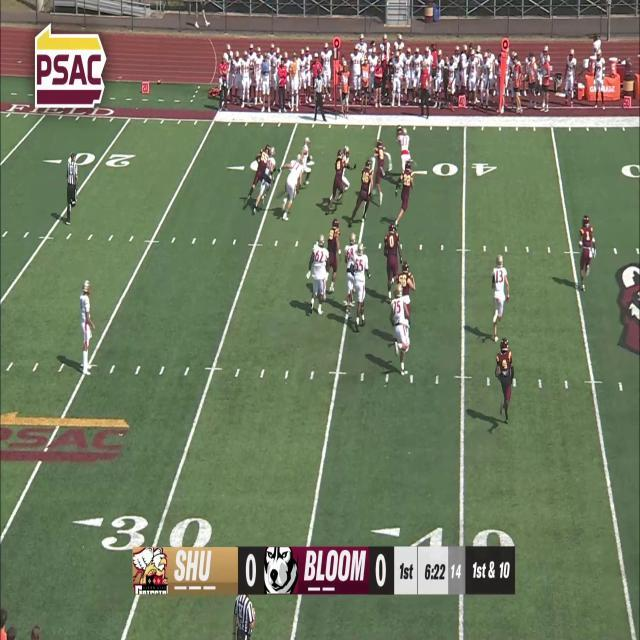football: (306, 152, 311, 162)
